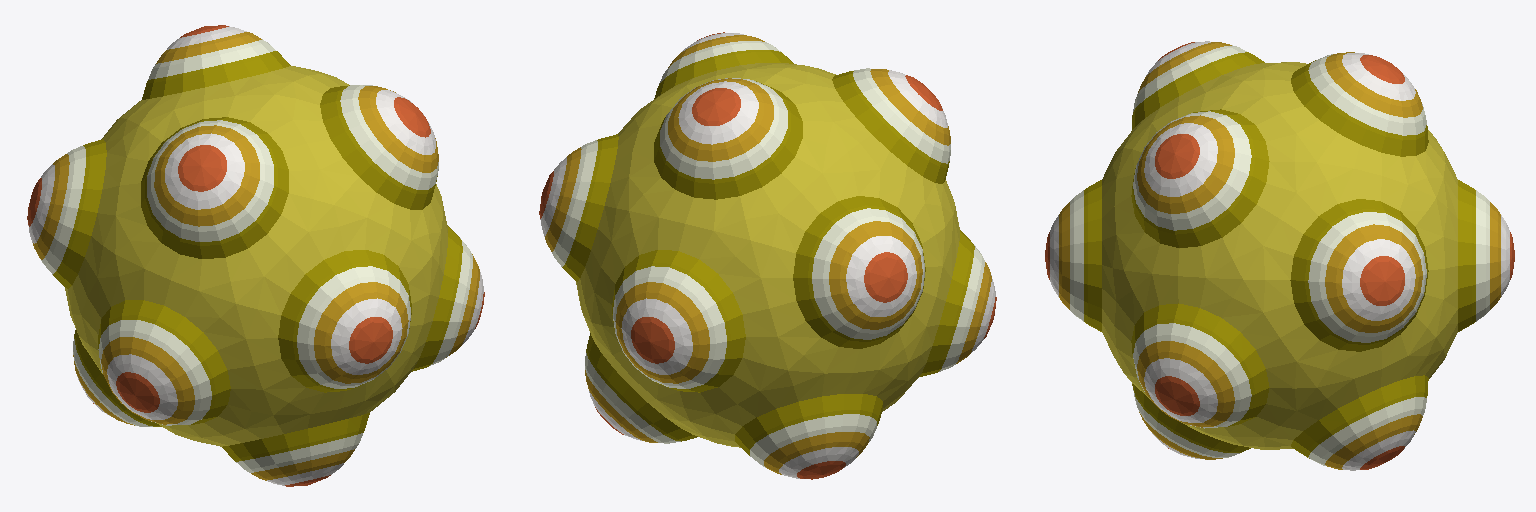
The picture shows the model from 3 angles: view 1: azimuth 30°, elevation 25°; view 2: azimuth 150°, elevation 25°; view 3: azimuth 270°, elevation 25°; orthographic projection.
Visible parts, largest first — view 1: core_02_0; view 2: core_02_0; view 3: core_02_0.
Boxes of the visible parts, x1,y1,x2,y2 form: core_02_0: [27, 25, 484, 486]; core_02_0: [539, 32, 996, 479]; core_02_0: [1045, 41, 1514, 470].
Bounding box in the file's own units: 0.0478 × 0.0494 × 0.0537.
1 materials, 1 textured.